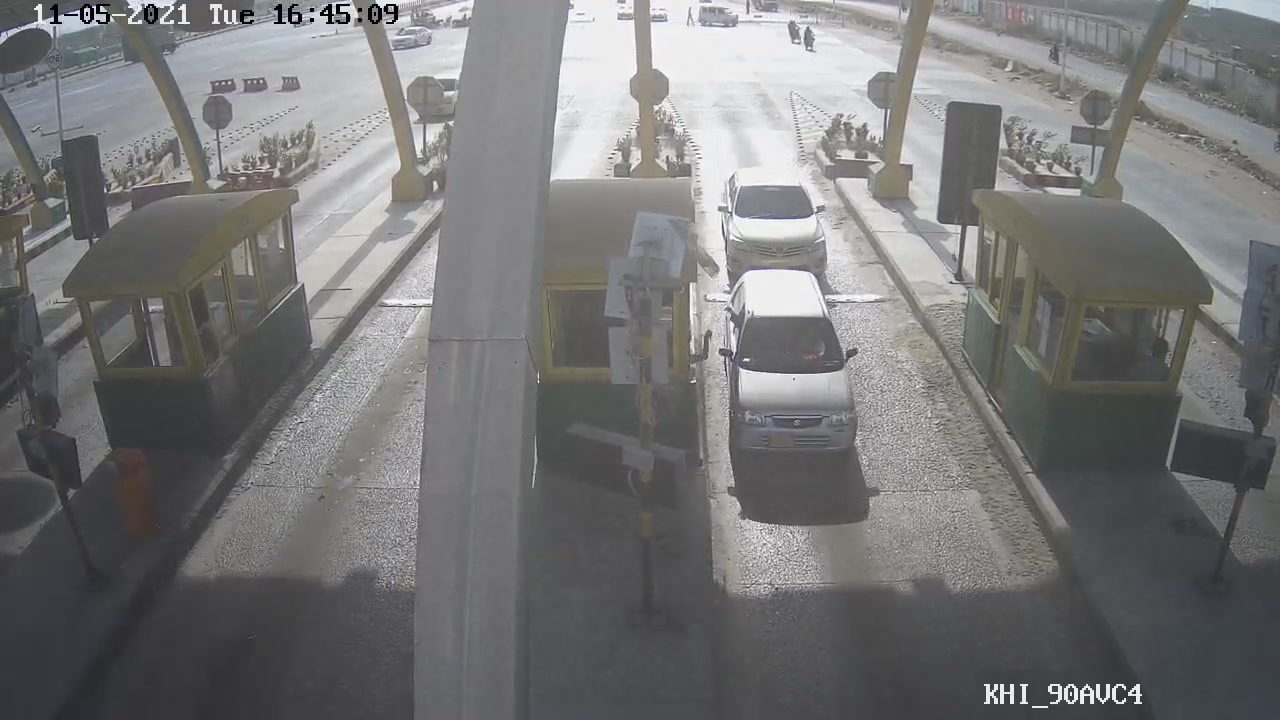F1: (704, 266, 876, 454)
